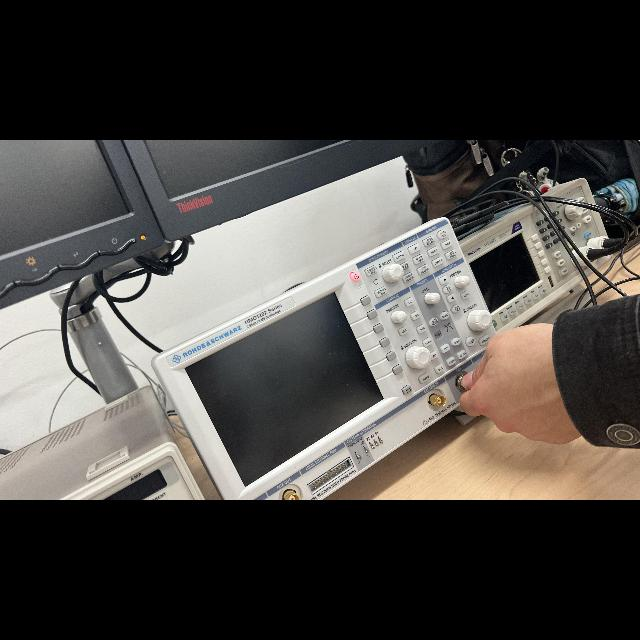Digital-Oscilloscope: (152, 218, 495, 500)
